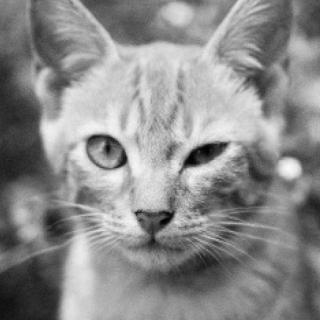cat: (23, 0, 304, 281)
nose: (128, 185, 178, 236)
